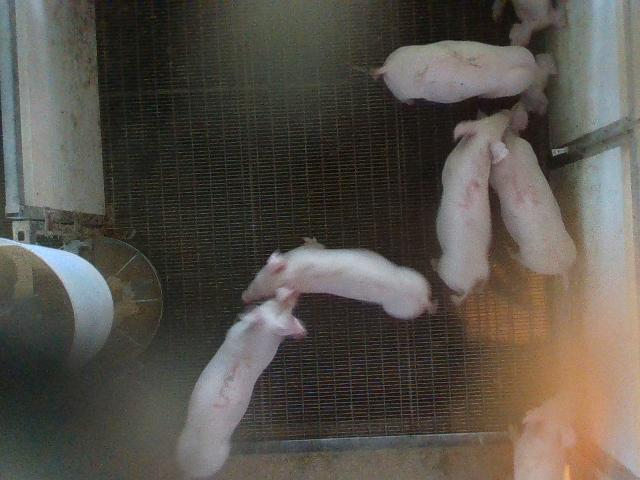pig-3: (176, 295, 306, 477)
pig-4: (489, 102, 576, 274)
pig-5: (436, 112, 509, 304)
